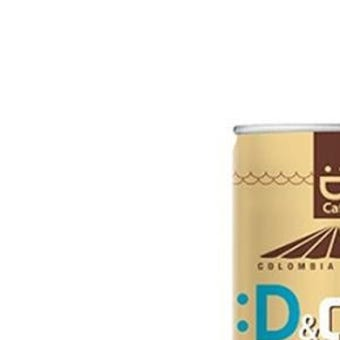paper: (230, 124, 340, 340)
